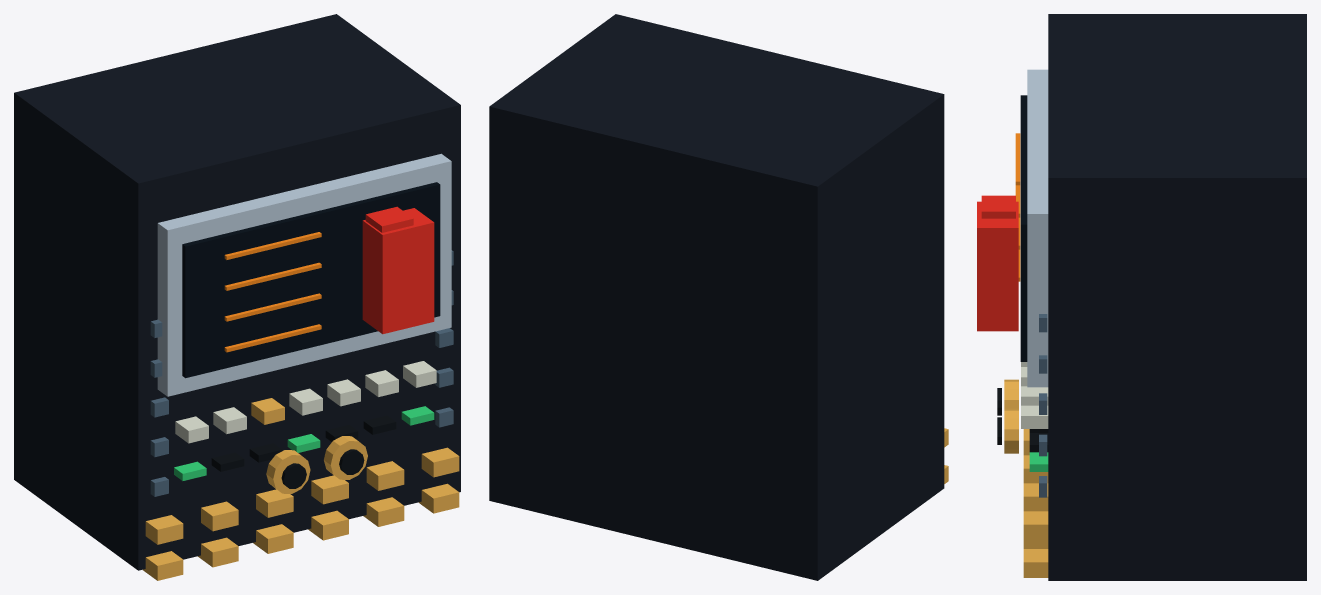
The model's file is 88_L92_DrillBitStallFaultInjector.fbx.
3 renders of one model, left to right at view 1: azimuth 30°, elevation 25°; view 2: azimuth 150°, elevation 25°; view 3: azimuth 270°, elevation 25°, orthographic. The views are drawn at different scales.
Parts seen in each view (by area): view 1: L92_DrillBitStallFaultInjector, L92_DrillBitStallFaultInjector_Part_0010, L92_DrillBitStallFaultInjector_Part_0012; view 2: L92_DrillBitStallFaultInjector; view 3: L92_DrillBitStallFaultInjector, L92_DrillBitStallFaultInjector_Part_0012, L92_DrillBitStallFaultInjector_Part_0010.
Part boxes in pixels (x1,y1,x2,y2): L92_DrillBitStallFaultInjector: (14, 14, 460, 580); L92_DrillBitStallFaultInjector_Part_0010: (266, 450, 310, 493); L92_DrillBitStallFaultInjector_Part_0012: (324, 436, 367, 479); L92_DrillBitStallFaultInjector: (489, 14, 948, 580); L92_DrillBitStallFaultInjector: (977, 14, 1306, 580); L92_DrillBitStallFaultInjector_Part_0012: (1004, 408, 1018, 453); L92_DrillBitStallFaultInjector_Part_0010: (1004, 379, 1018, 408).
Bounding box in the file's own units: 112 × 130 × 95.4.
